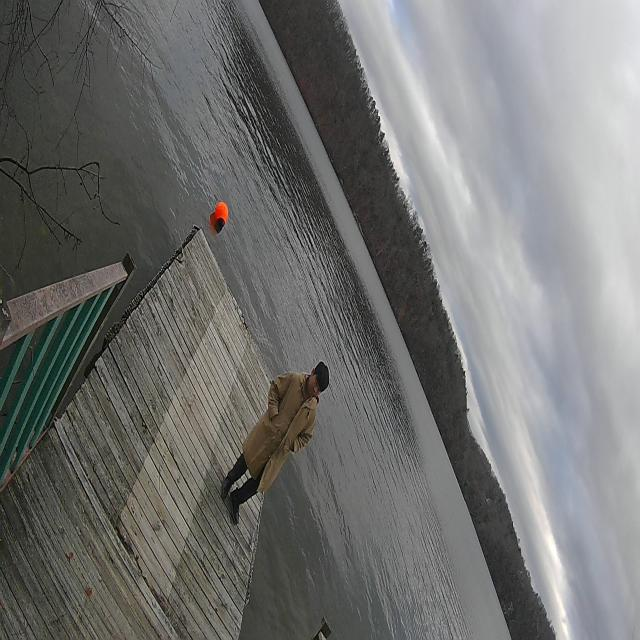Buoy: (205, 183, 237, 238)
